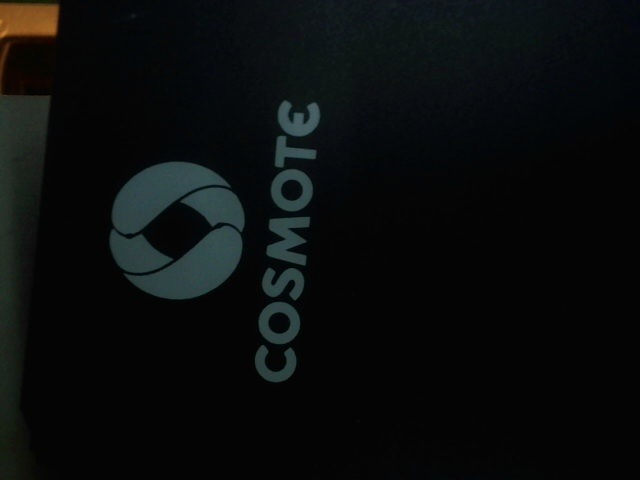AU_COSMOTE: (109, 87, 322, 381)
